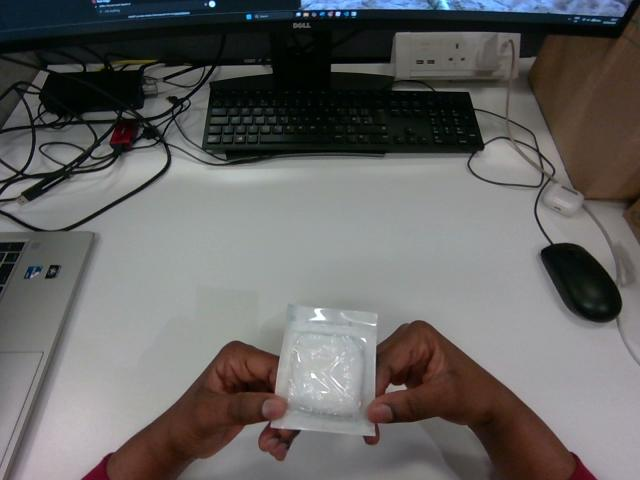gauze: (271, 305, 376, 435)
